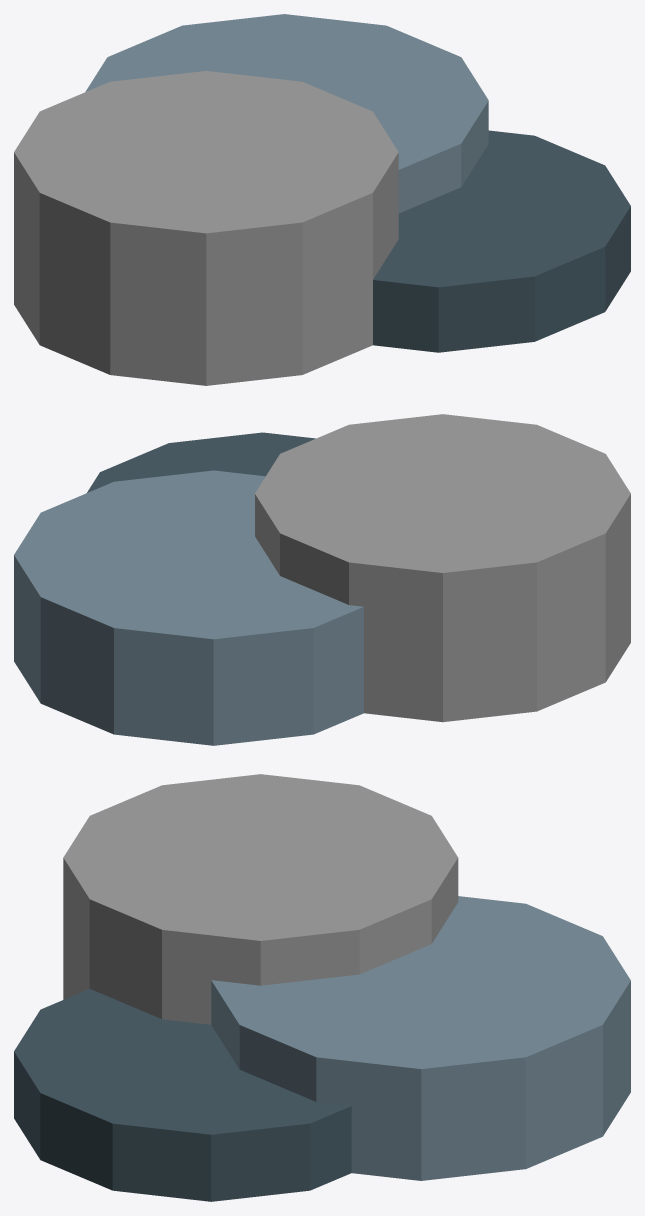
Rendered from Rock (3).obj.
3 renders of one model, top to bottom at view 1: azimuth 30°, elevation 25°; view 2: azimuth 150°, elevation 25°; view 3: azimuth 270°, elevation 25°, orthographic. The views are drawn at different scales.
Visible parts, largest first — view 1: group536205572, group1931228264, group2091526918; view 2: group536205572, group2091526918, group1931228264; view 3: group2091526918, group536205572, group1931228264.
Part boxes in pixels (box(x1,y1,x2,y2)): group536205572: box(14, 71, 398, 385); group1931228264: box(373, 130, 630, 352); group2091526918: box(85, 14, 488, 213); group536205572: box(255, 414, 630, 722); group2091526918: box(14, 470, 363, 745); group1931228264: box(87, 432, 315, 492); group2091526918: box(211, 896, 630, 1180); group536205572: box(63, 774, 458, 1024); group1931228264: box(14, 989, 351, 1201).
Size of the model in its own units: 0.26 by 0.07 by 0.25.
